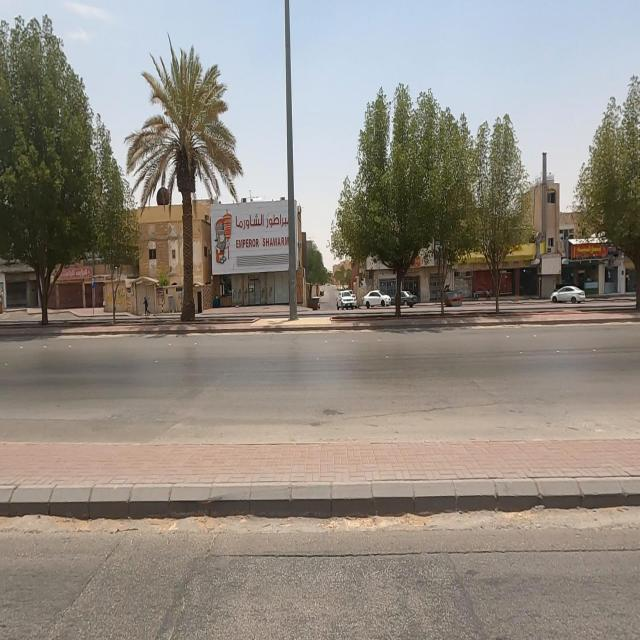debris: (84, 272, 142, 318)
